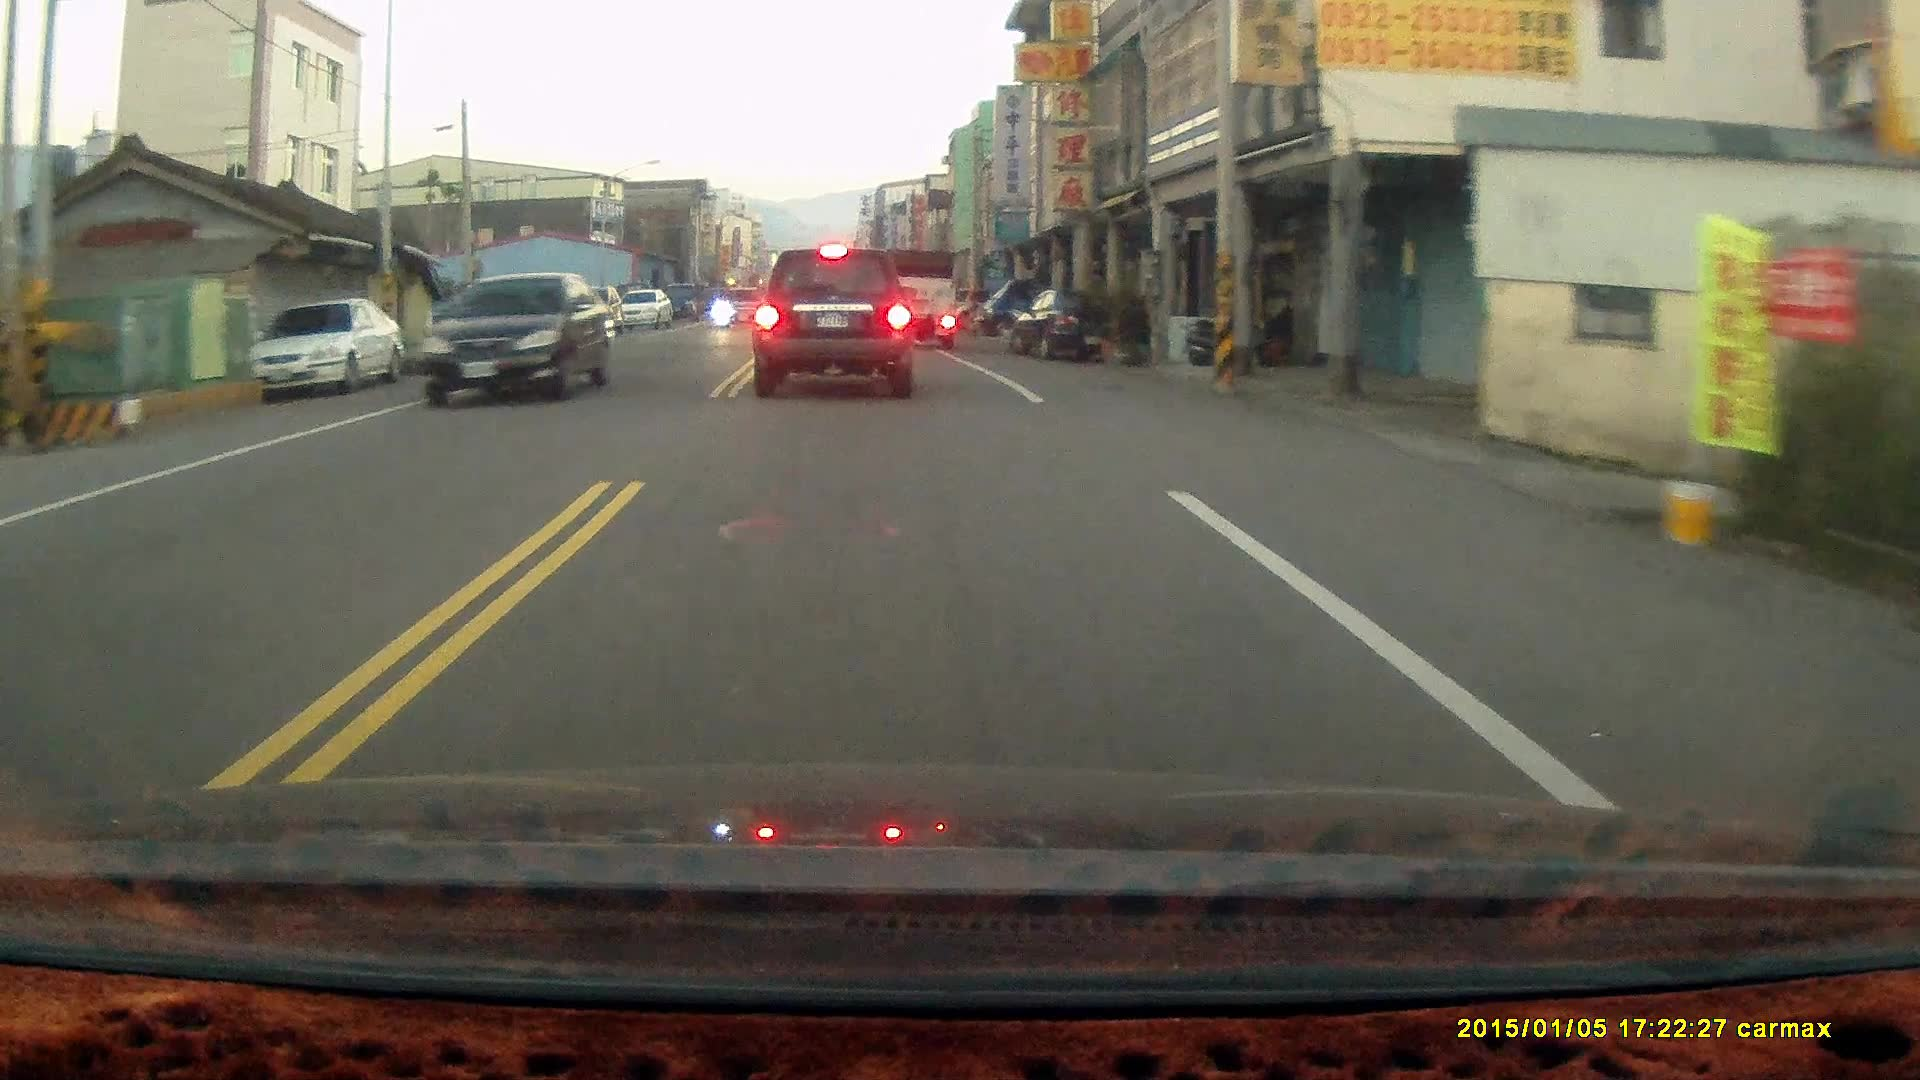vehicle: (414, 272, 612, 411), (752, 247, 916, 404), (245, 297, 405, 397), (1015, 291, 1135, 368), (880, 255, 960, 357), (615, 289, 674, 334)
